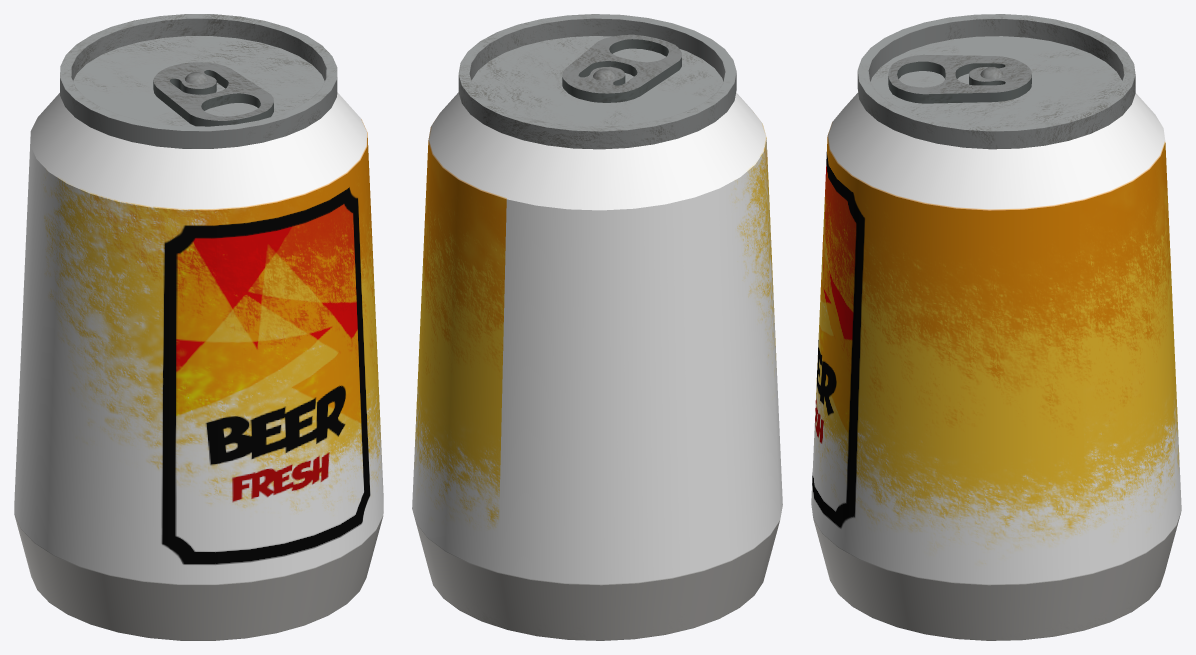
File: 맥주캔.fbx
3 views of the same model, side by side, from view 1: azimuth 30°, elevation 25°; view 2: azimuth 150°, elevation 25°; view 3: azimuth 270°, elevation 25° (orthographic).
Visible parts, largest first — view 1: 캔4; view 2: 캔4; view 3: 캔4.
Part boxes in pixels (bbox=[...]): 캔4: bbox=[14, 14, 383, 640]; 캔4: bbox=[412, 14, 782, 640]; 캔4: bbox=[811, 14, 1181, 640].
Bounding box in the file's own units: 196 × 290 × 196.
1 material, 1 textured.
